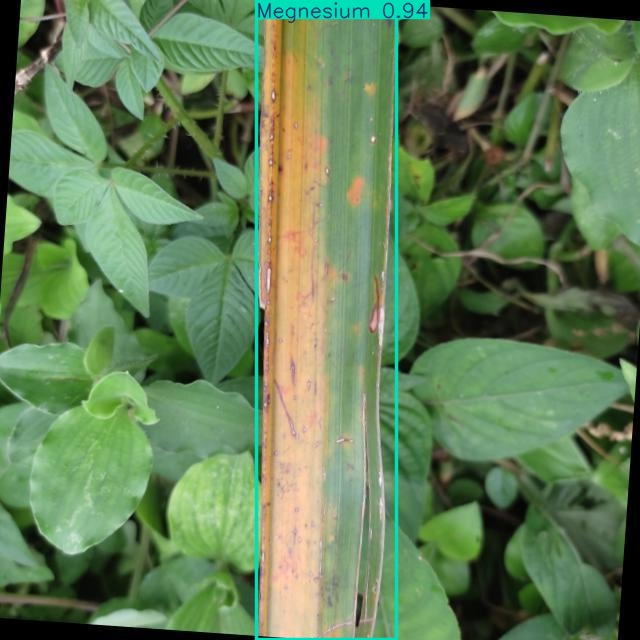Megnesium: (257, 0, 396, 640)
